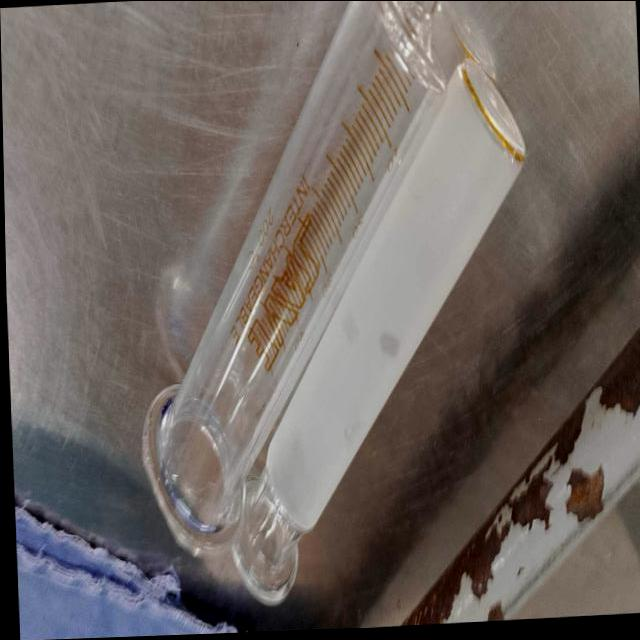General: (138, 0, 530, 607)
